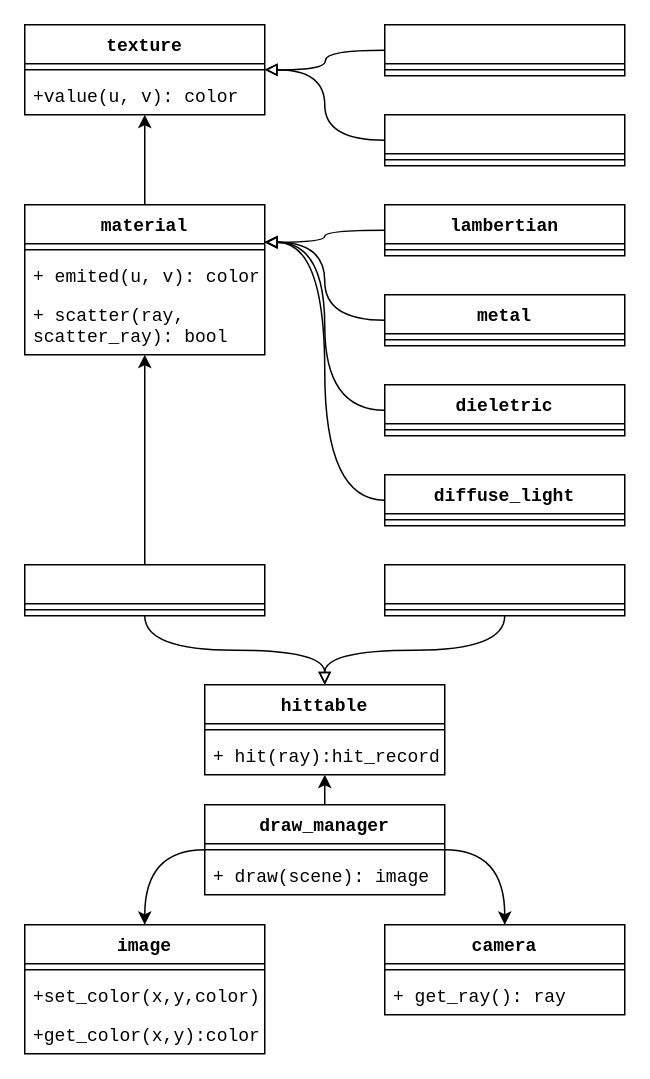
This 650x1079 diagram has some shape labels left out. The centre of each missing label's shape, as x and y in pixels:
"checker_texture" belongs at pixel 504 139.
"hittable_list" belongs at pixel 504 589.
"solid_color" belongs at pixel 504 49.
"sphere" belongs at pixel 144 589.
